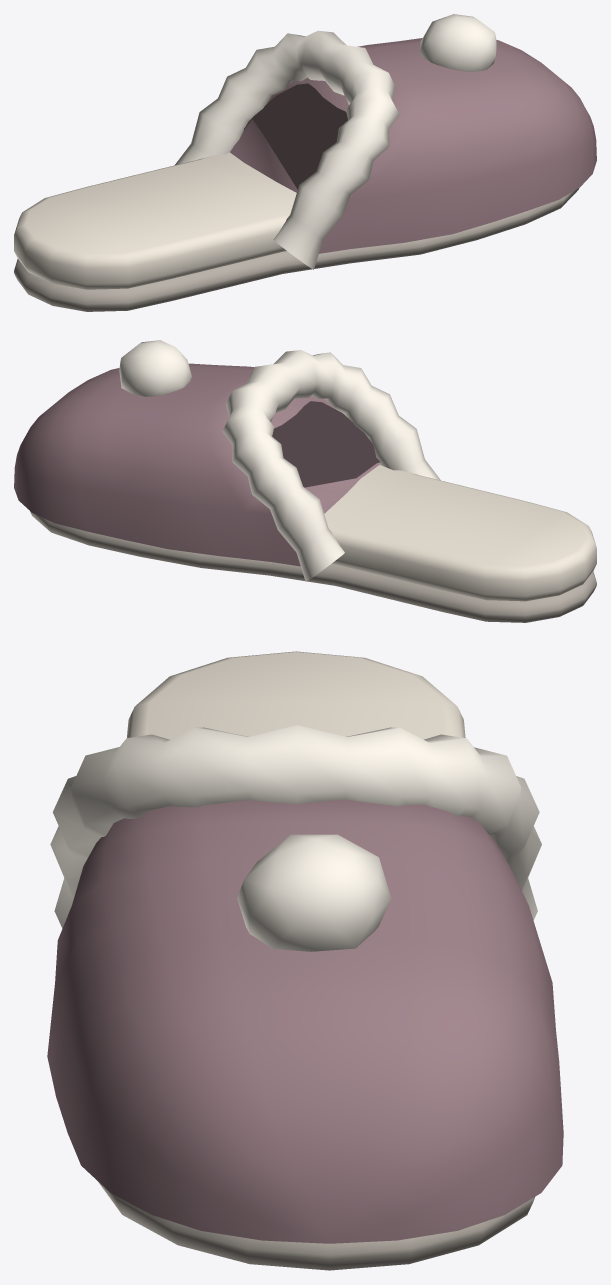
File: slipper.glb
The picture shows the model from 3 angles, top to bottom: view 1: azimuth 30°, elevation 25°; view 2: azimuth 150°, elevation 25°; view 3: azimuth 270°, elevation 25°; orthographic projection. The views are drawn at different scales.
Visible parts, largest first — view 1: body; view 2: body; view 3: body.
Part boxes in pixels (box(x1,y1,x2,y2)): body: box(14, 14, 596, 311); body: box(14, 340, 596, 622); body: box(47, 651, 563, 1270).
Size of the model in its own units: 26.4 by 7.8 by 10.84.
